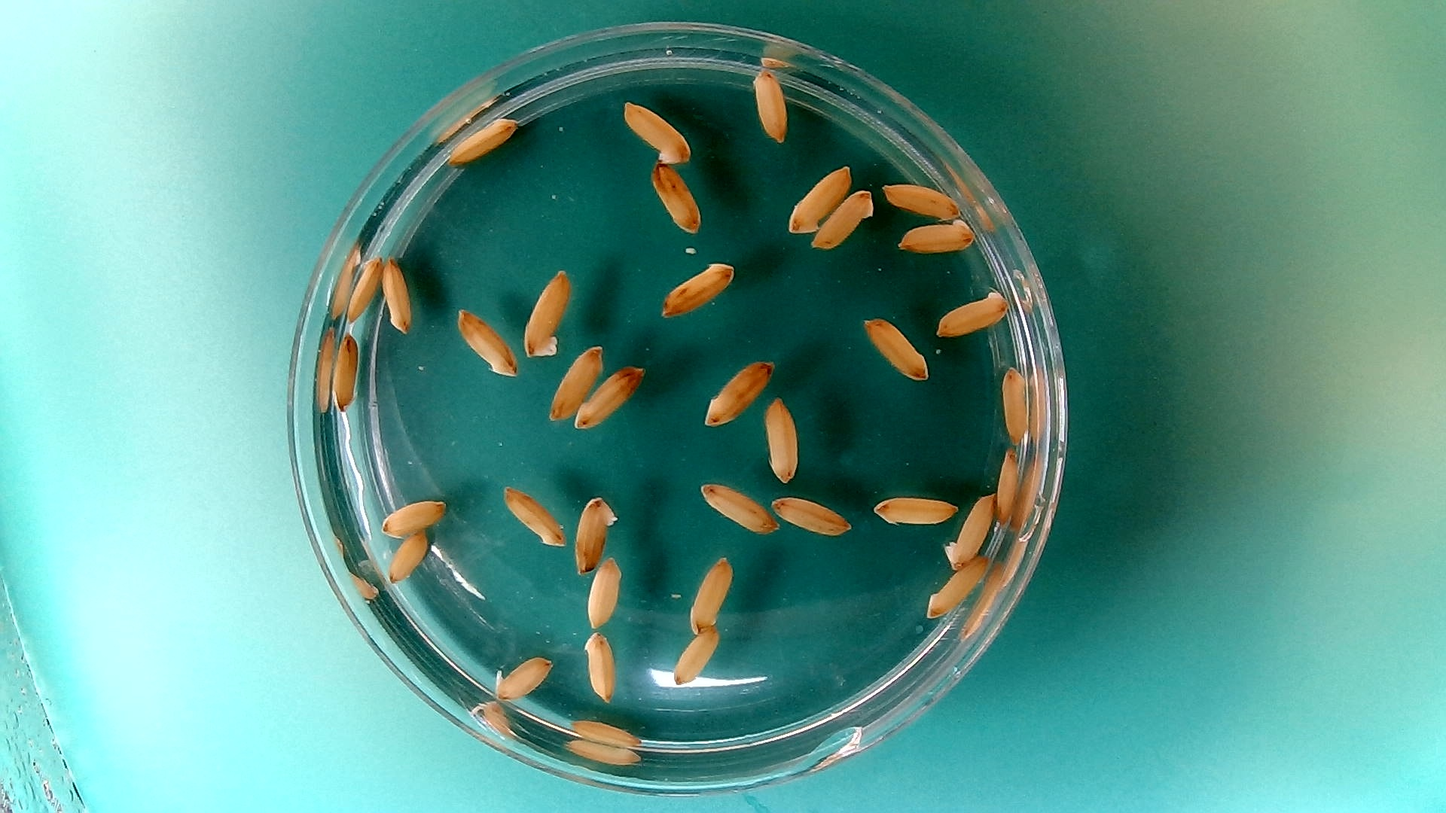no: (699, 355, 777, 428), (657, 259, 752, 318), (519, 263, 574, 360), (572, 362, 647, 431), (784, 160, 853, 235), (620, 99, 695, 167), (860, 313, 932, 383), (453, 304, 520, 379), (545, 340, 605, 422), (923, 552, 993, 621), (694, 478, 778, 534), (499, 482, 568, 549), (941, 490, 996, 571), (933, 285, 1013, 339), (810, 186, 876, 251), (570, 492, 620, 576), (648, 160, 703, 236), (686, 553, 736, 635), (446, 111, 520, 166), (770, 493, 853, 536), (879, 178, 962, 221), (763, 394, 801, 486), (748, 64, 789, 145), (671, 623, 722, 687), (897, 215, 978, 255), (872, 492, 960, 528), (377, 494, 449, 538), (584, 553, 624, 631), (997, 361, 1032, 446), (329, 328, 362, 416), (580, 628, 618, 704), (344, 252, 384, 324), (380, 252, 414, 336), (567, 715, 645, 751), (384, 528, 432, 586), (994, 443, 1020, 528)
yes: (490, 653, 556, 702)
